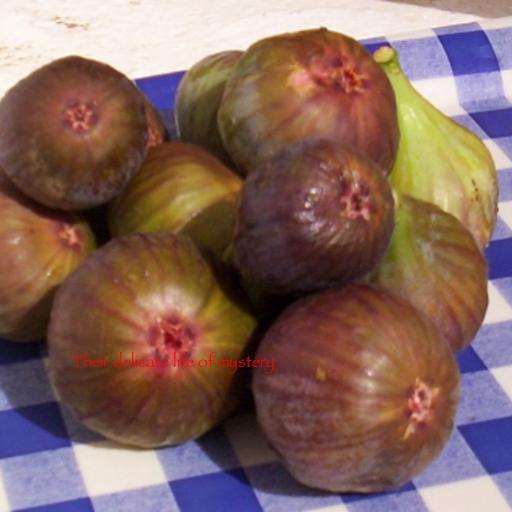Papyrus: (71, 351, 275, 374)
